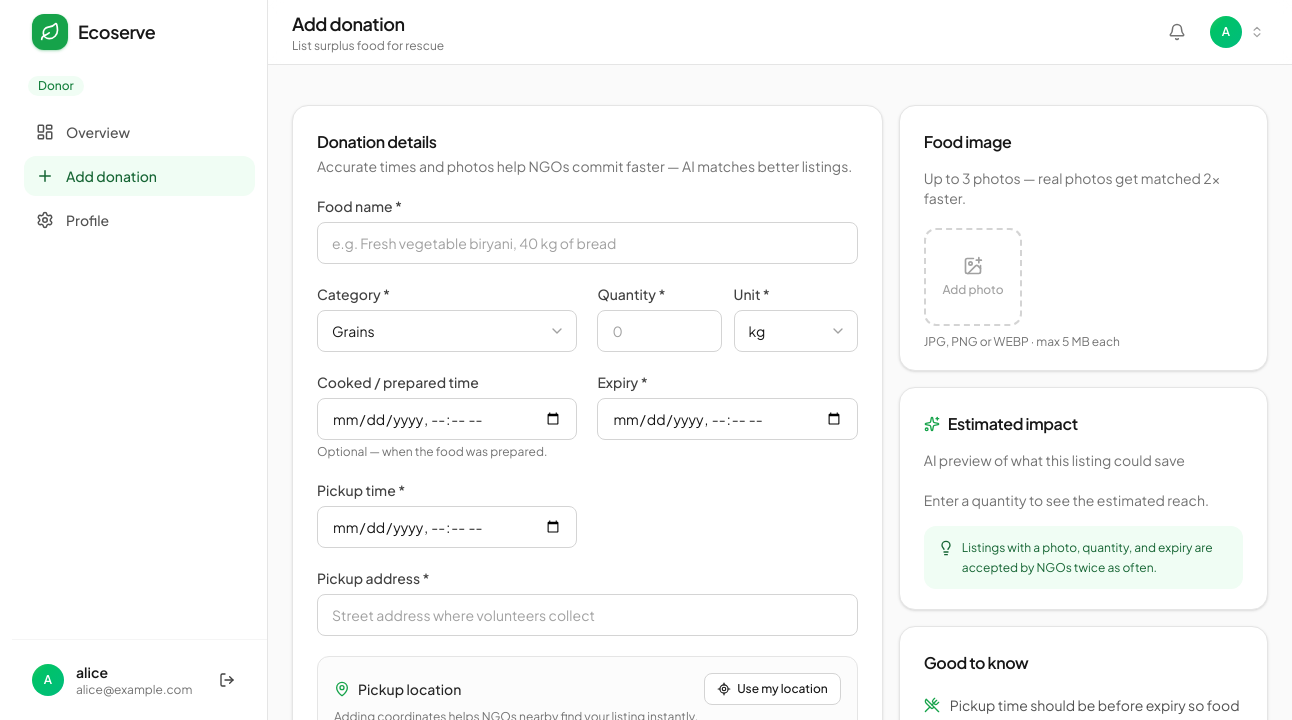
Test: NewDonationPage › submits a valid donation, shows a success toast, and returns to the dashboard
In the field labelled "Food name *": [587, 243] box [317,222,858,264], type "Paneer Biryani"
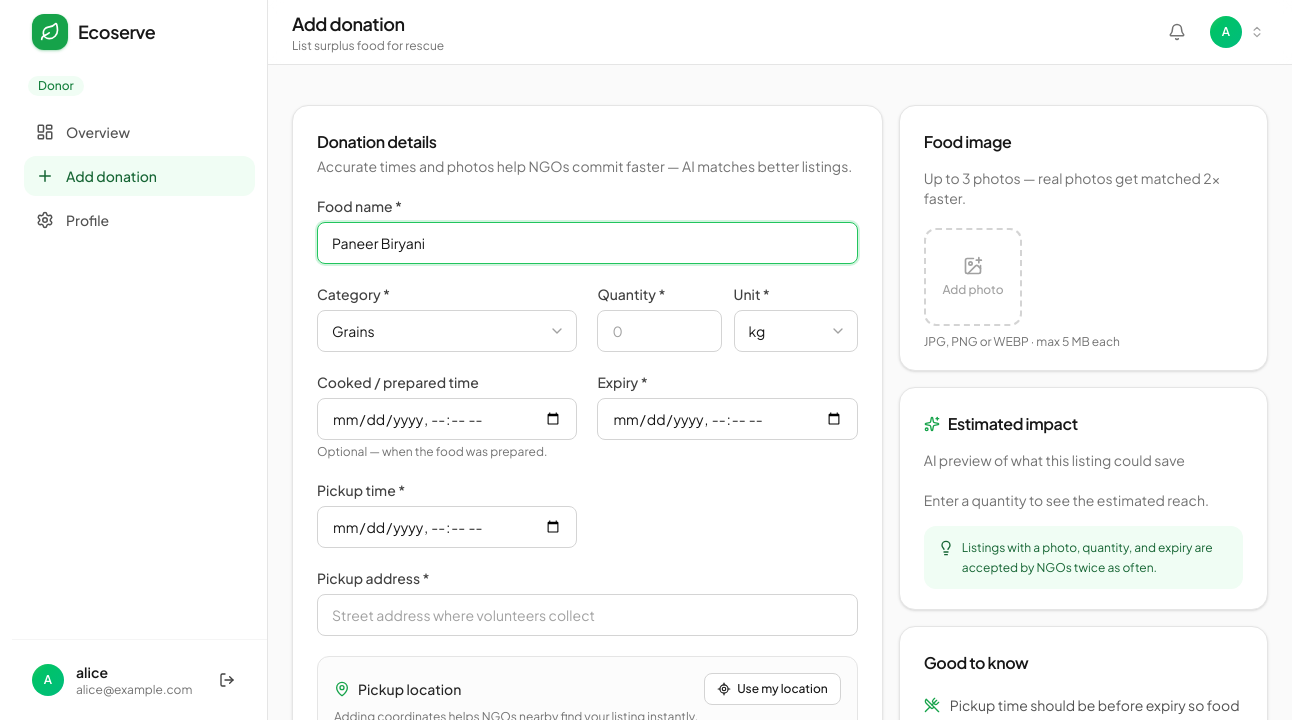
In the number field labelled "Quantity *": [660, 331] box [597,310,722,352], type "10"
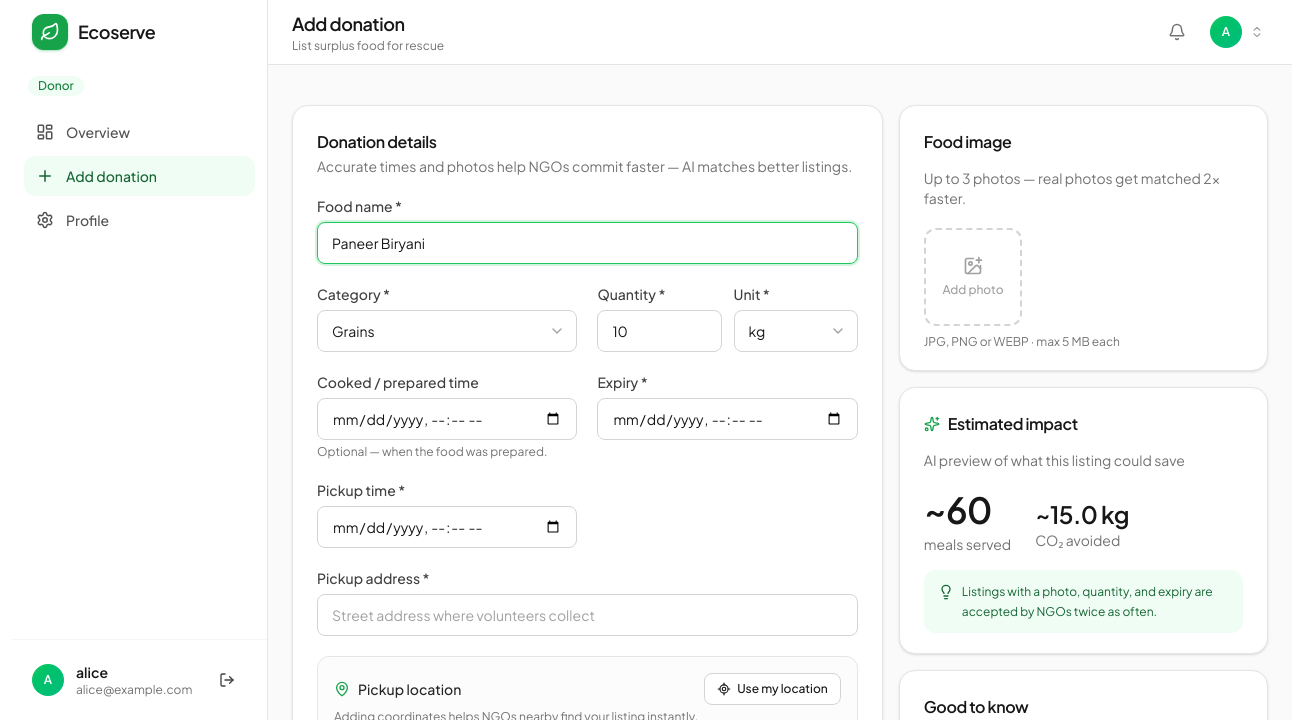
In the field labelled "Expiry *": [728, 419] box [597,398,858,440], type "2026-08-10T16:00"
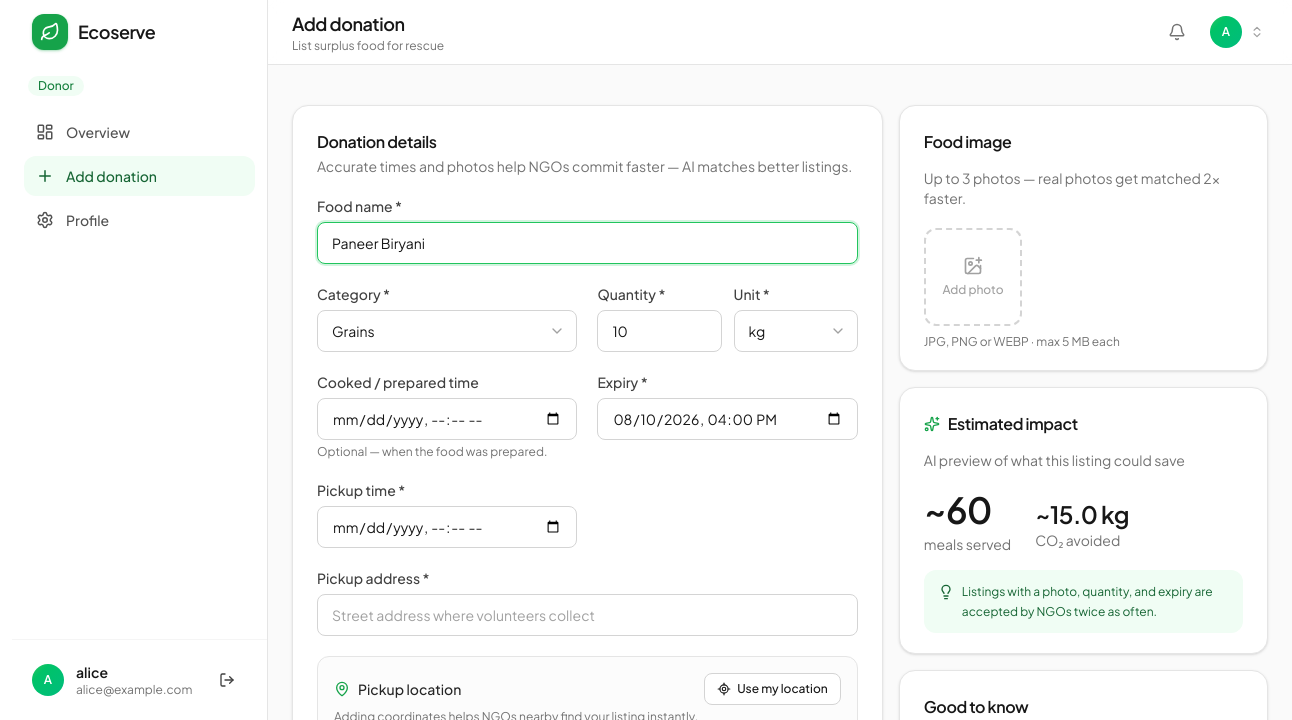
In the field labelled "Pickup time *": [447, 527] box [317,506,577,548], type "2026-08-10T14:00"
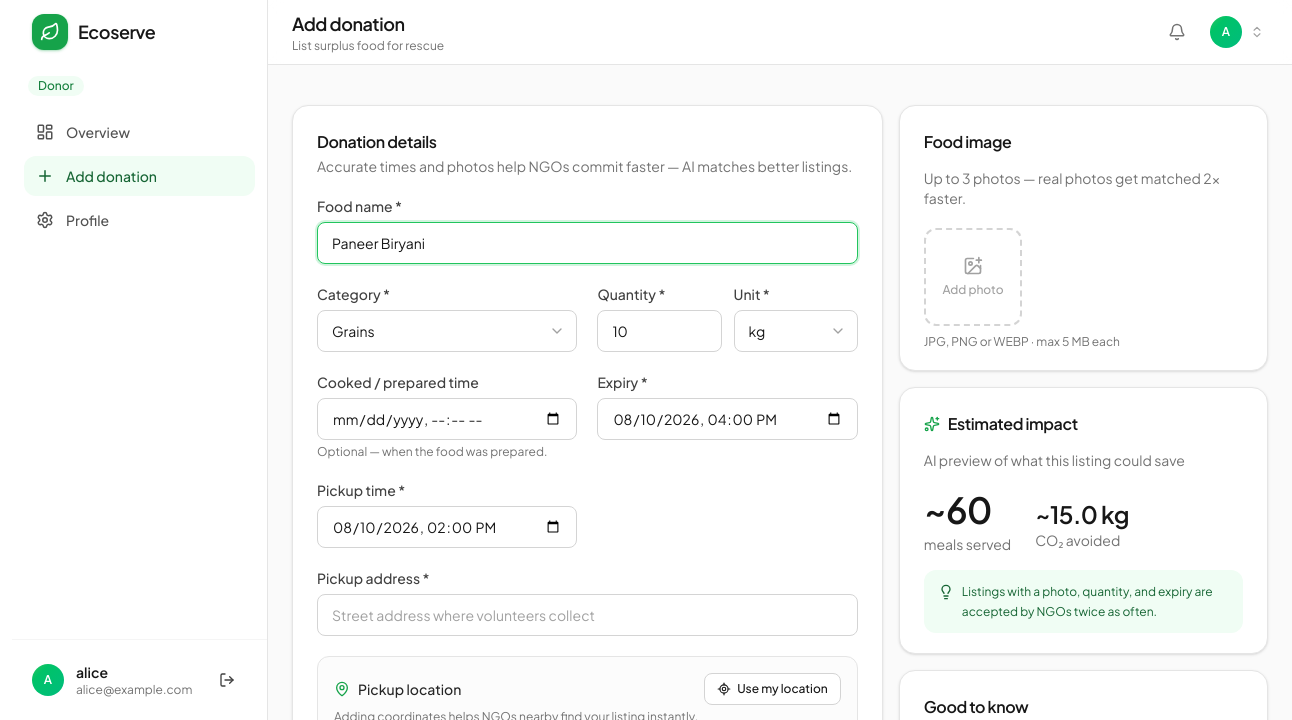
In the field labelled "Pickup address *": [587, 615] box [317,594,858,636], type "12 MG Road, Bengaluru"
(page scrolled)
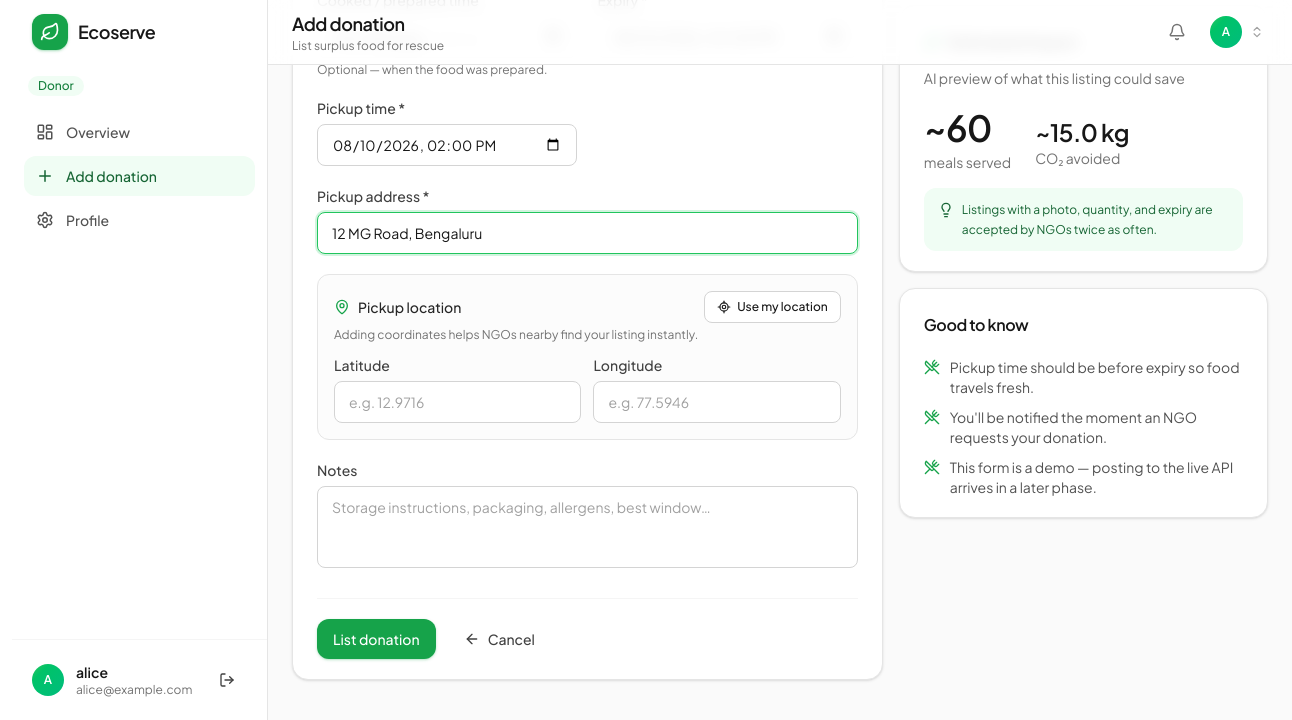
Click the button "List donation": [376, 639] box [317,619,436,659]
(page scrolled)
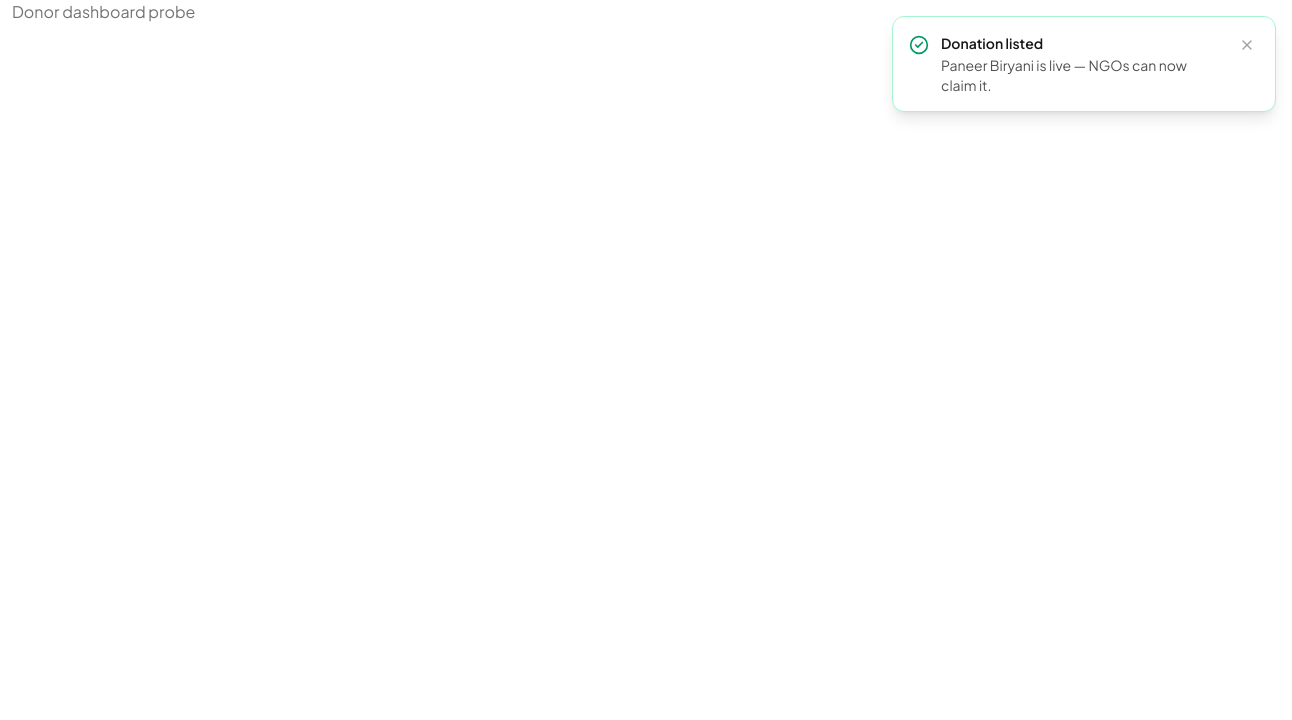
Expected: the text "Donor dashboard probe" is shown, [12,1,196,22]
